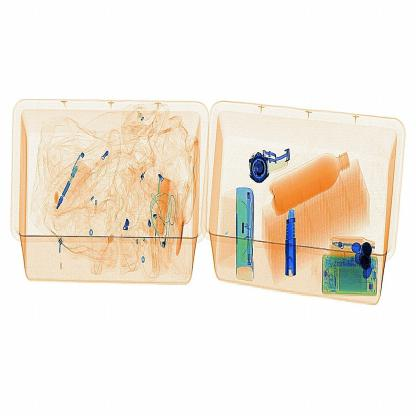pliers: (272, 203, 304, 285)
